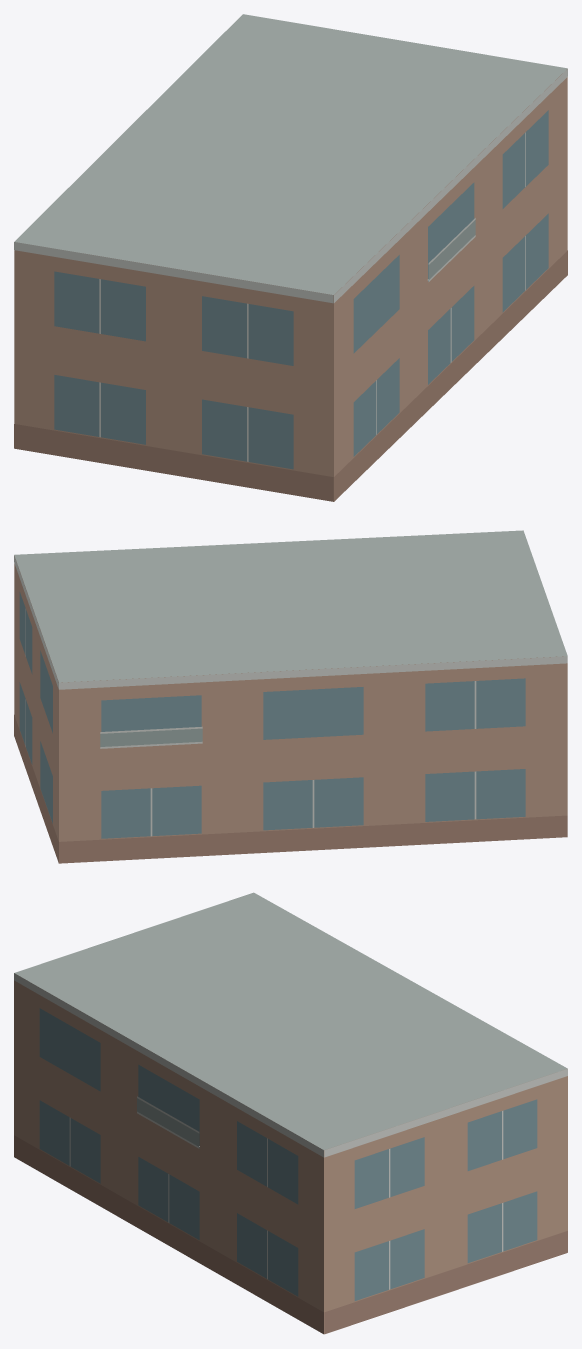
The model's file is survey-upis-32816448.glb.
3 renders of one model, top to bottom at view 1: azimuth 30°, elevation 25°; view 2: azimuth 150°, elevation 25°; view 3: azimuth 270°, elevation 25°, orthographic. The views are drawn at different scales.
Parts seen in each view (by area): view 1: survey-upis-32816448.tmp; view 2: survey-upis-32816448.tmp; view 3: survey-upis-32816448.tmp.
Part boxes in pixels (x1,y1,x2,y2): survey-upis-32816448.tmp: (14, 14, 567, 501); survey-upis-32816448.tmp: (14, 530, 567, 863); survey-upis-32816448.tmp: (14, 892, 567, 1334).
Size of the model in its own units: 18.33 by 6.1 by 16.63.
